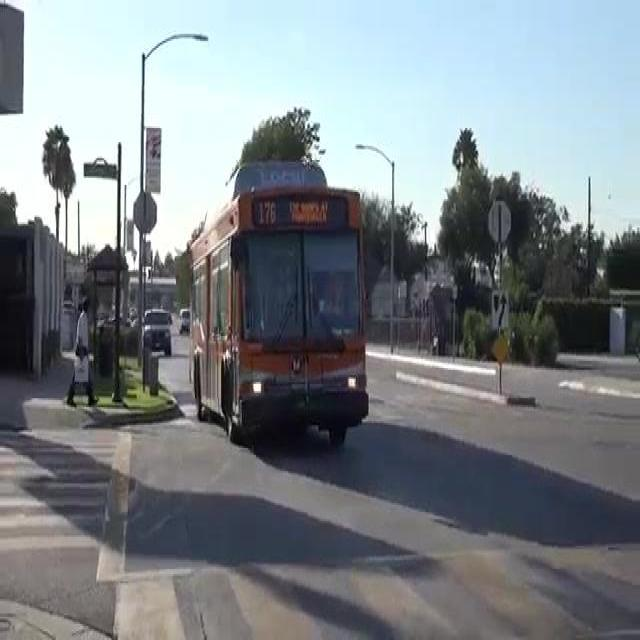bus: (176, 181, 375, 433)
